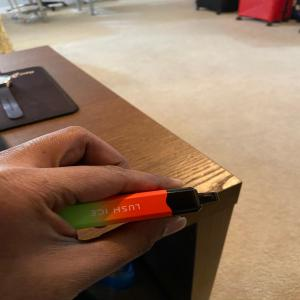Swift-E-Ciggirate: (68, 187, 222, 230)
